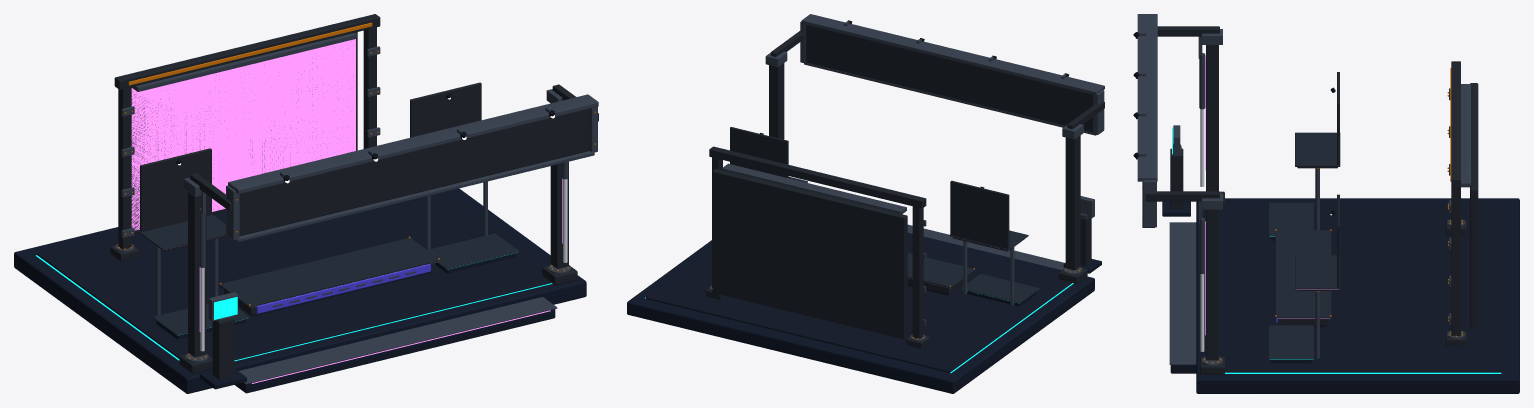
Rendered from kinetix_booth_v2.glb.
The picture shows the model from 3 angles, left to right: view 1: azimuth 30°, elevation 25°; view 2: azimuth 150°, elevation 25°; view 3: azimuth 270°, elevation 25°; orthographic projection. The views are drawn at different scales.
Visible parts, largest first — view 1: Kinetix_Robotics_Booth_v2; view 2: Kinetix_Robotics_Booth_v2; view 3: Kinetix_Robotics_Booth_v2.
Boxes of the visible parts, box(x1,y1,x2,y2) form: Kinetix_Robotics_Booth_v2: box(14, 14, 598, 393); Kinetix_Robotics_Booth_v2: box(627, 14, 1104, 393); Kinetix_Robotics_Booth_v2: box(1133, 14, 1519, 393).
Bounding box in the file's own units: 7.24 × 3.92 × 6.5.
